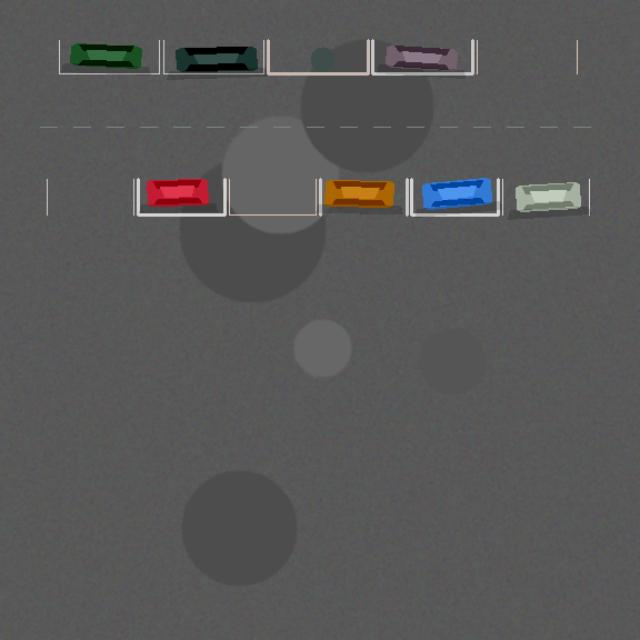space-empty: (268, 40, 368, 73), (477, 40, 577, 73), (229, 179, 316, 214), (47, 179, 133, 214)
space-occupied: (59, 40, 159, 73), (163, 40, 263, 73), (372, 40, 472, 73), (320, 179, 407, 214), (411, 179, 498, 214), (502, 179, 589, 214), (138, 179, 224, 214)
